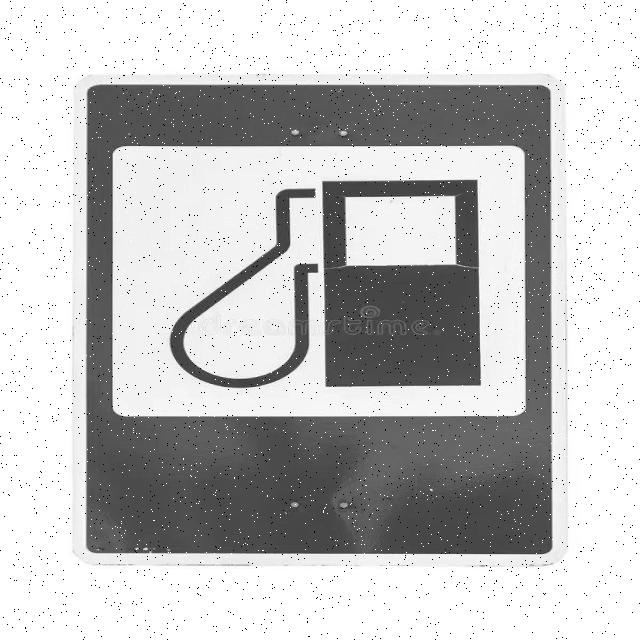petrol_station: (76, 84, 555, 553)
